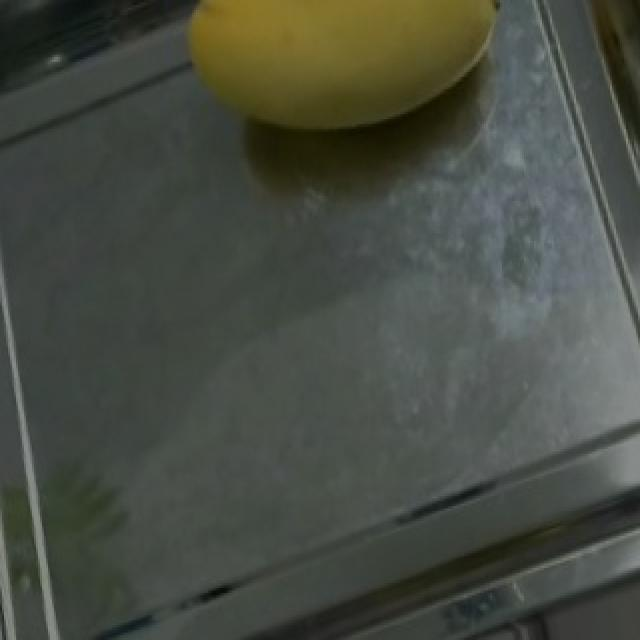fruit: (160, 0, 536, 181)
